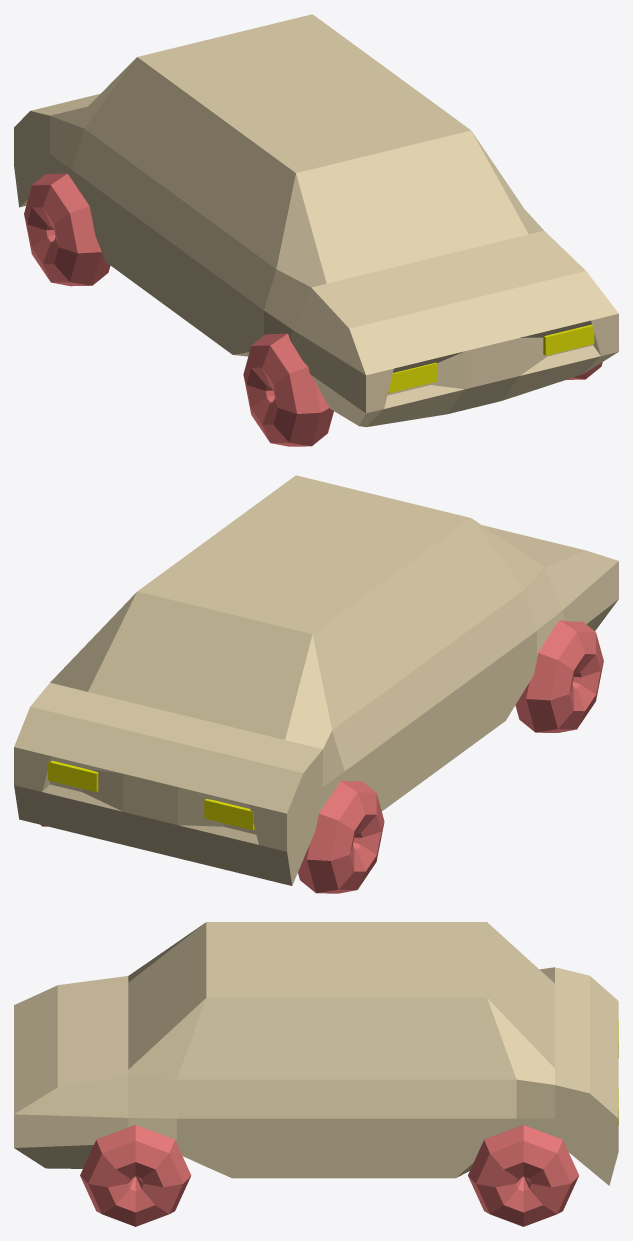
Rendered from woodenCar.fbx.
The picture shows the model from 3 angles, top to bottom: view 1: azimuth 30°, elevation 25°; view 2: azimuth 150°, elevation 25°; view 3: azimuth 270°, elevation 25°; orthographic projection. The views are drawn at different scales.
Visible parts, largest first — view 1: car_body, frontLeft (×2), backLeft, frontRight; view 2: car_body, backLeft (×2), frontLeft, bakcRight; view 3: car_body, backRight, frontRight.
Boxes of the visible parts, left/top/right/bottom form: car_body: left=14, top=14, right=618, bottom=427; frontLeft (×2): left=243, top=324, right=594, bottom=446; backLeft: left=24, top=173, right=110, bottom=286; frontRight: left=388, top=362, right=436, bottom=393; car_body: left=14, top=475, right=618, bottom=885; backLeft (×2): left=48, top=760, right=384, bottom=893; frontLeft: left=515, top=620, right=603, bottom=732; bakcRight: left=204, top=799, right=254, bottom=830; car_body: left=14, top=922, right=618, bottom=1185; backRight: left=468, top=1125, right=578, bottom=1226; frontRight: left=80, top=1125, right=191, bottom=1226.
Bounding box in the file's own units: 6.01 × 4.08 × 10.85.
